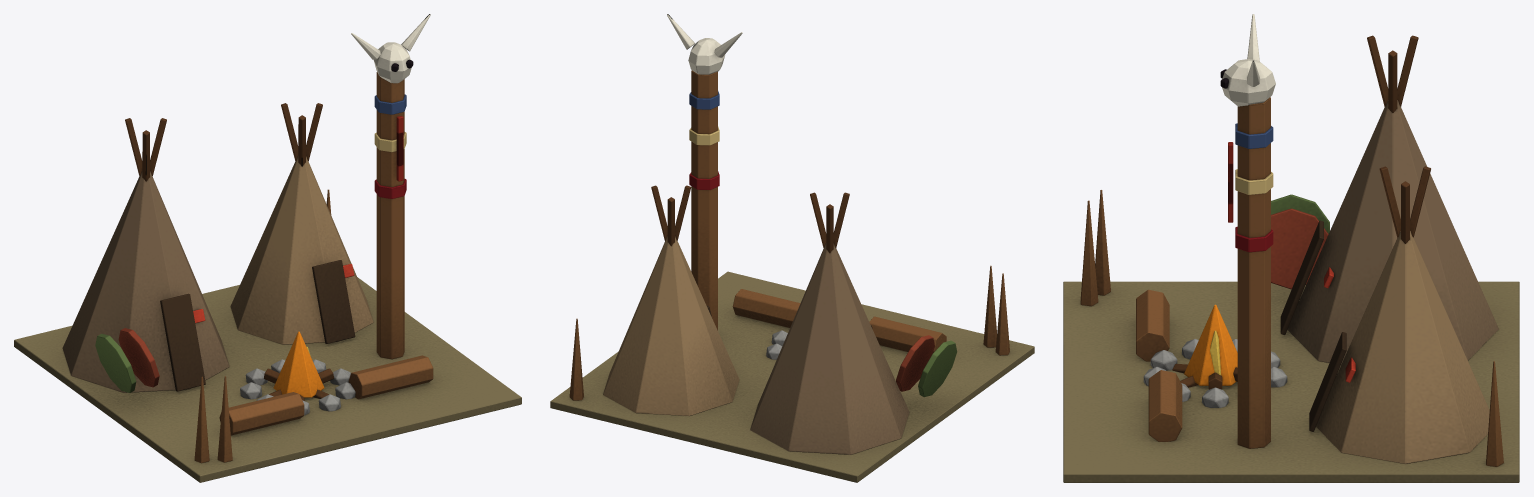
The model's file is oboz_barbarzyncow.glb.
The picture shows the model from 3 angles, left to right: view 1: azimuth 30°, elevation 25°; view 2: azimuth 150°, elevation 25°; view 3: azimuth 270°, elevation 25°; orthographic projection. The views are drawn at different scales.
Parts seen in each view (by area): view 1: oboz_barbarzyncow; view 2: oboz_barbarzyncow; view 3: oboz_barbarzyncow.
Part boxes in pixels (bbox=[...]): oboz_barbarzyncow: bbox=[14, 14, 521, 482]; oboz_barbarzyncow: bbox=[550, 14, 1034, 482]; oboz_barbarzyncow: bbox=[1063, 14, 1519, 482].
Size of the model in its own units: 1.81 by 1.82 by 1.8.
1 material, 1 textured.
